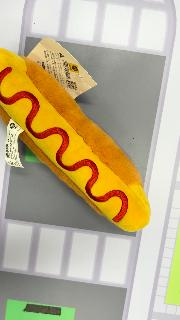hotdog: (0, 48, 152, 232)
